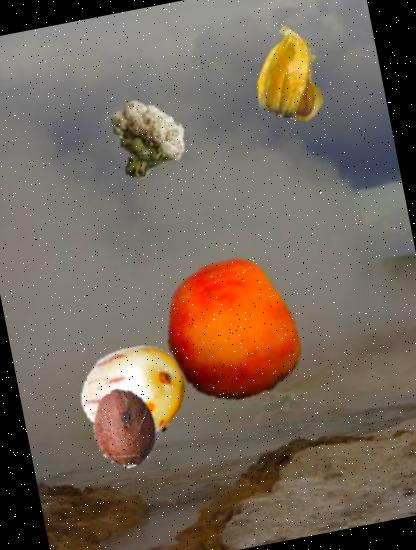Cauliflower: (96, 93, 193, 190)
Cocos: (78, 380, 172, 474)
Peach: (147, 249, 313, 415)
Pepino: (73, 330, 196, 453)
Physalis: (240, 19, 348, 127)
